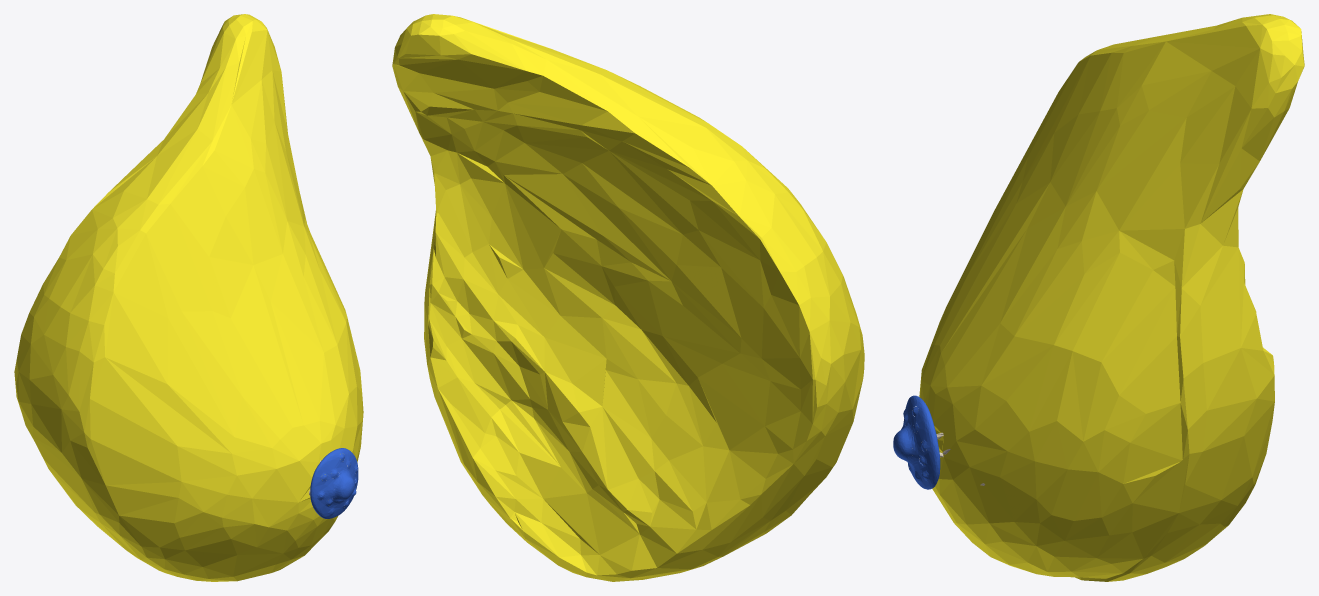
File: breast_l.glb
3 views of the same model, side by side, from view 1: azimuth 30°, elevation 25°; view 2: azimuth 150°, elevation 25°; view 3: azimuth 270°, elevation 25° (orthographic). The views are drawn at different scales.
Visible parts, largest first — view 1: VH_F_fat_L, VH_F_areola_L; view 2: VH_F_fat_L; view 3: VH_F_fat_L, VH_F_areola_L, VH_F_nipple_L.
Part boxes in pixels (<box>): VH_F_fat_L: <box>14,14,363,581</box>; VH_F_areola_L: <box>310,448,358,518</box>; VH_F_fat_L: <box>392,14,864,581</box>; VH_F_fat_L: <box>919,14,1304,581</box>; VH_F_areola_L: <box>901,395,940,489</box>; VH_F_nipple_L: <box>893,427,913,464</box>.
Size of the model in its own units: 0.1277 by 0.1818 by 0.1118.
